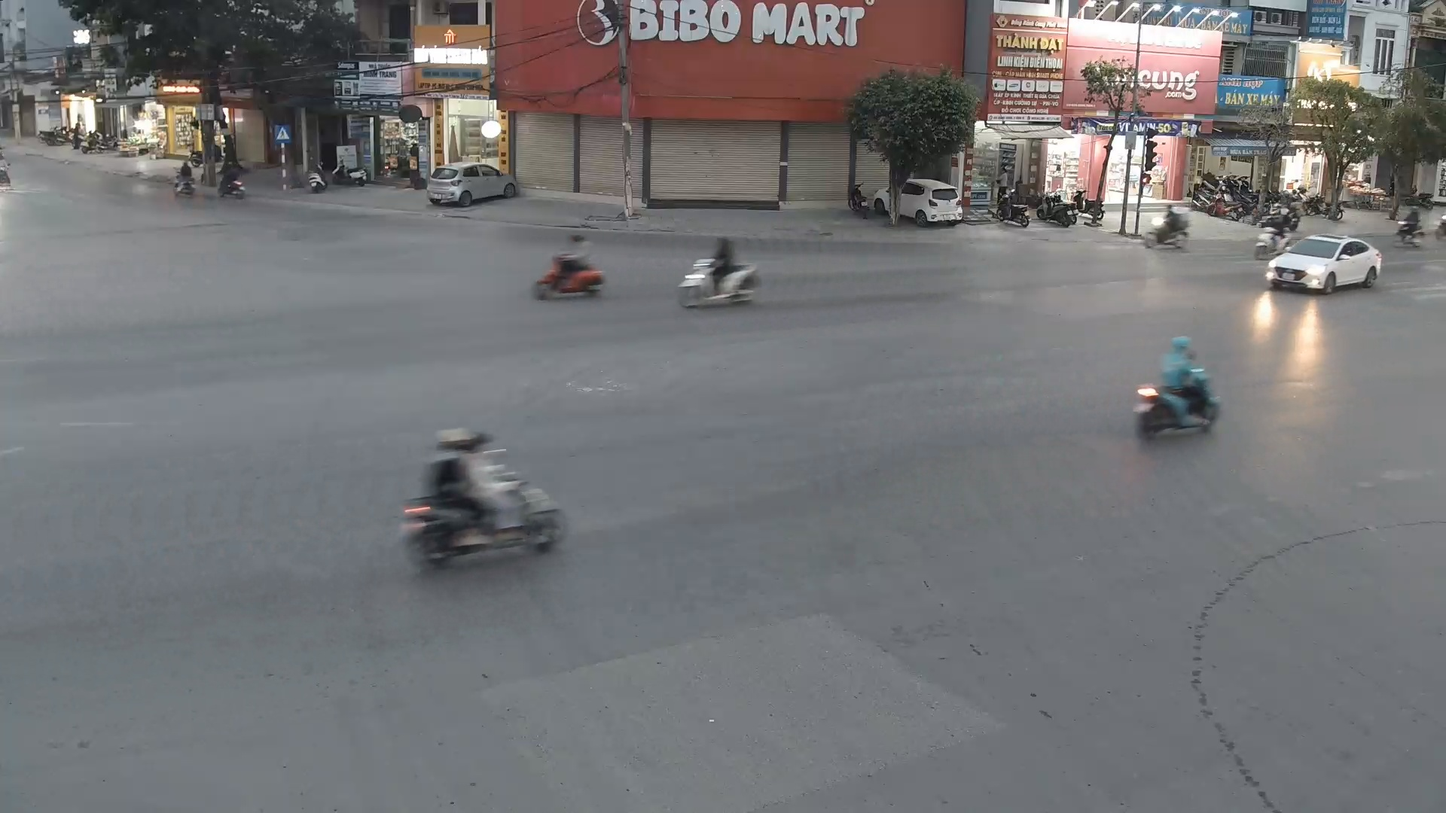car: (1265, 232, 1383, 296), (426, 161, 521, 211)
motorbike: (399, 426, 567, 571), (1131, 335, 1223, 443), (674, 235, 762, 311), (530, 226, 609, 302)
